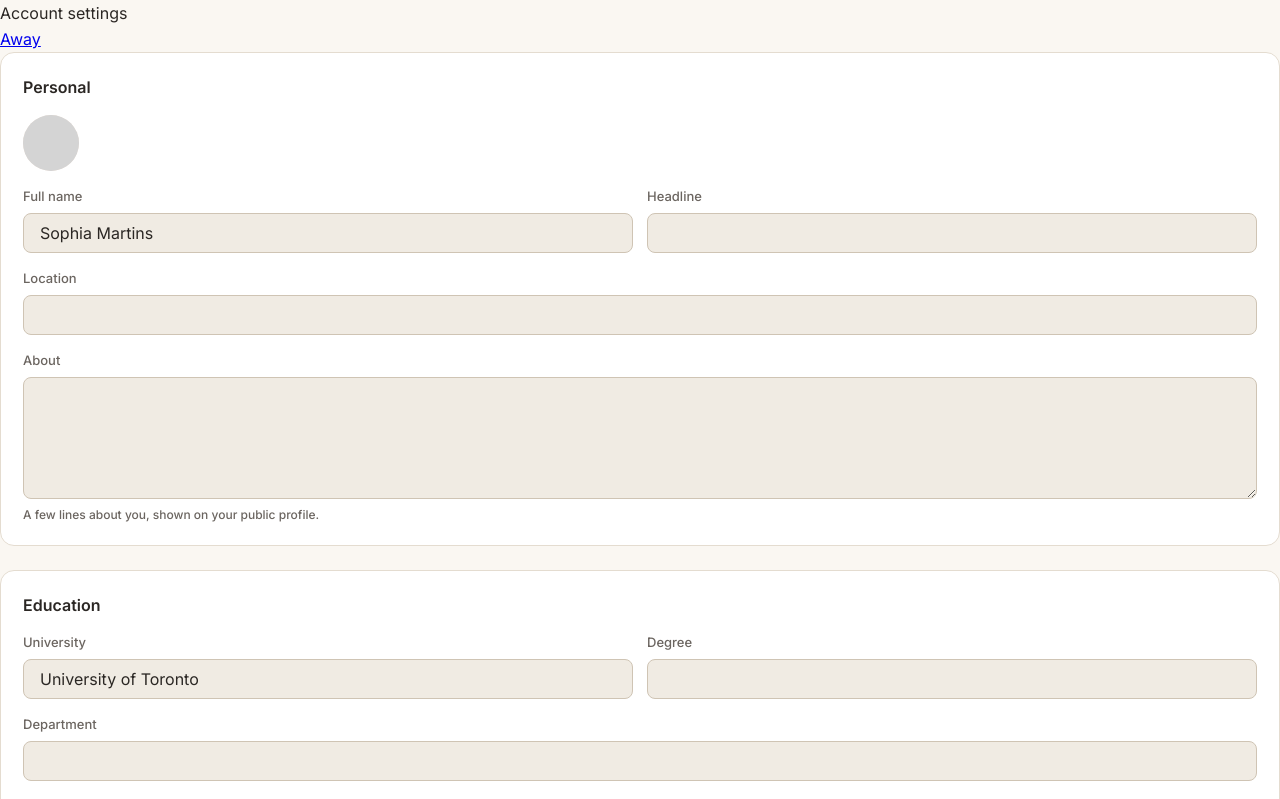
Test: ProfileForm editing › shows a field error when the field is left
Clear the field labelled "Full name" at coordinates (328, 233), box [23,213,633,253]
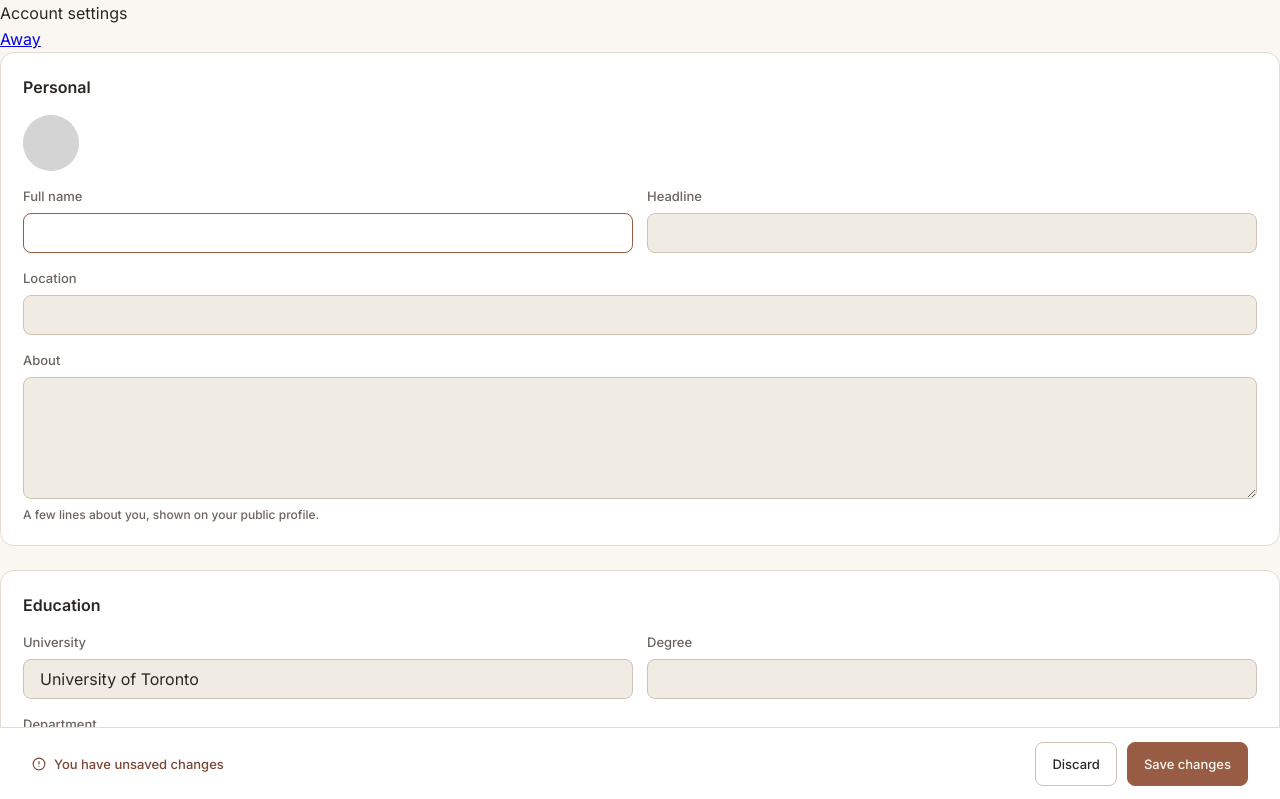
Expected: the text "Name is required" is not shown
Press Tab
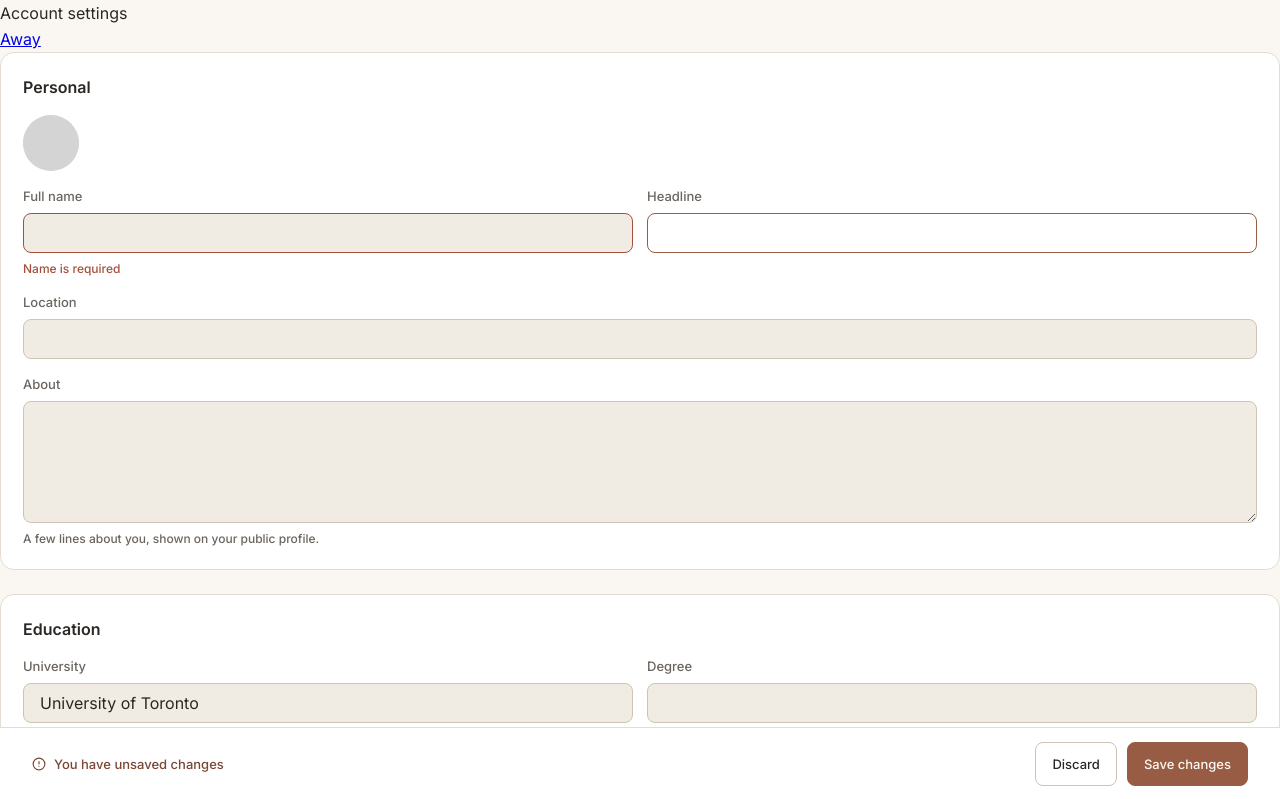
Expected: the text "Name is required" is shown, [23,261,120,276]
